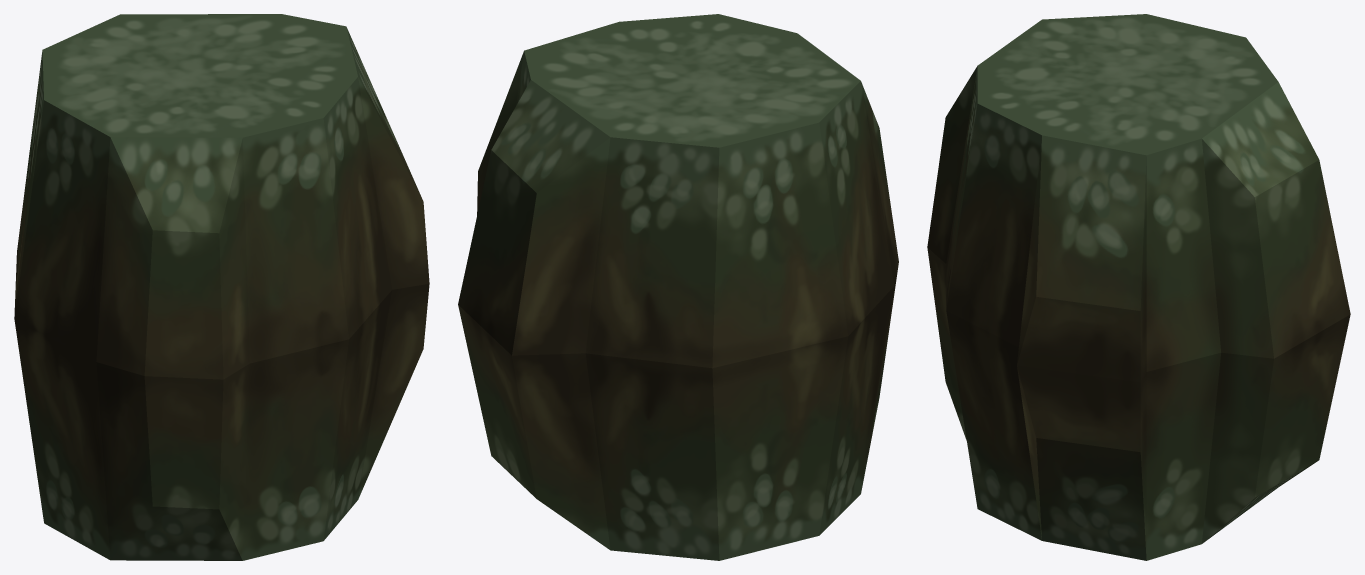
Rendered from Elude_Raise_Mesh.fbx.
3 views of the same model, side by side, from view 1: azimuth 30°, elevation 25°; view 2: azimuth 150°, elevation 25°; view 3: azimuth 270°, elevation 25° (orthographic). The views are drawn at different scales.
Visible parts, largest first — view 1: pCylinder4; view 2: pCylinder4; view 3: pCylinder4.
Boxes of the visible parts, box(x1,y1,x2,y2) form: pCylinder4: box(14, 14, 429, 560); pCylinder4: box(458, 14, 898, 560); pCylinder4: box(927, 14, 1350, 560).
Size of the model in its own units: 190 by 200 by 189.
